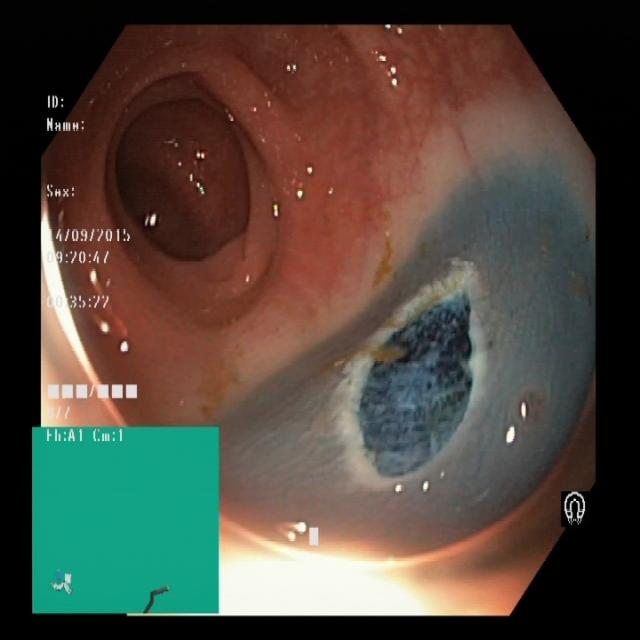dyed-resection-margins: (339, 243, 515, 512)
